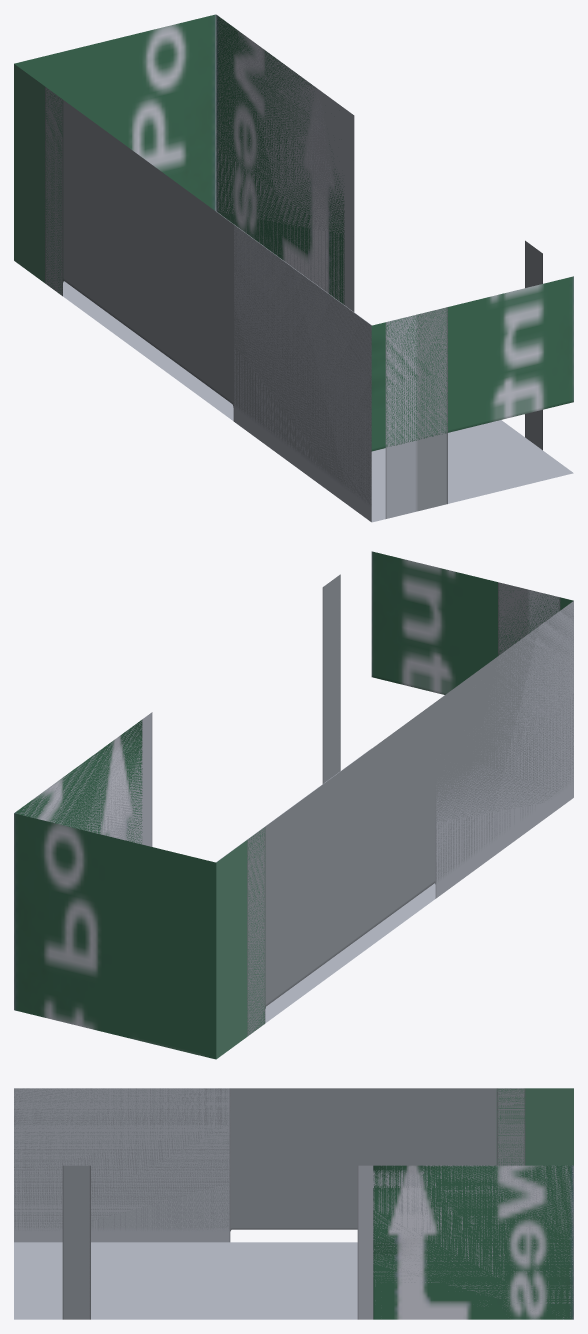
The model's file is section-1.obj.
3 renders of one model, top to bottom at view 1: azimuth 30°, elevation 25°; view 2: azimuth 150°, elevation 25°; view 3: azimuth 270°, elevation 25°, orthographic. The views are drawn at different scales.
Size of the model in its own units: 0.602 by 0.5606 by 1.85.
